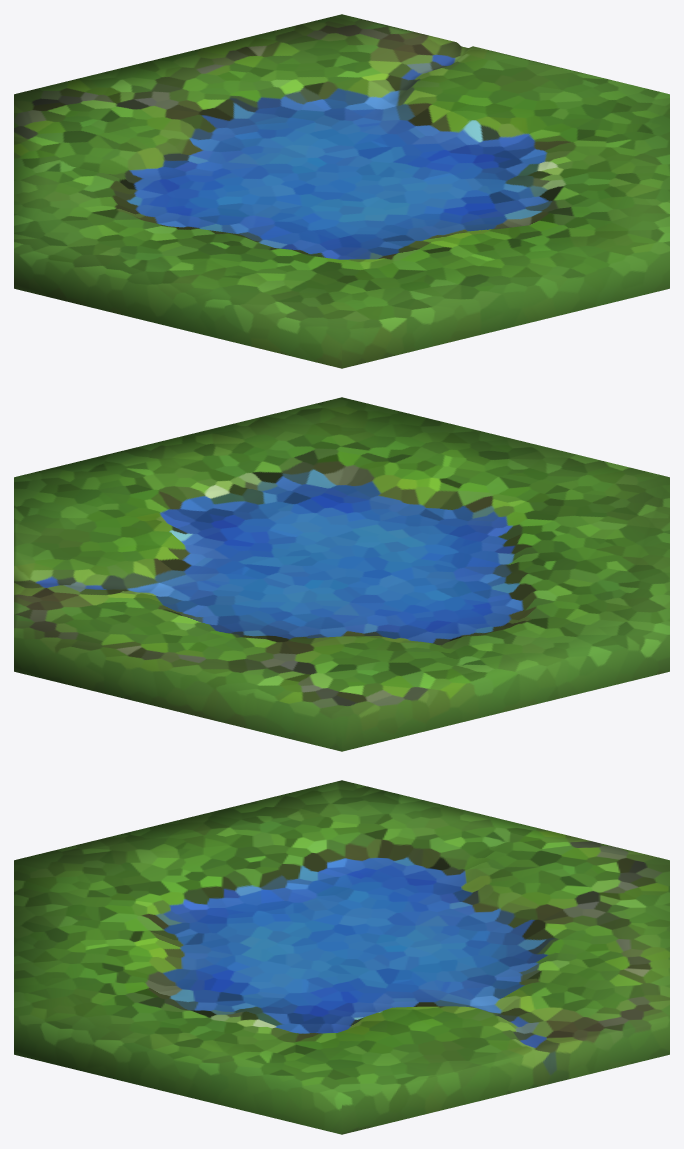
Rendered from HexTop_Lake.fbx.
The picture shows the model from 3 angles, top to bottom: view 1: azimuth 30°, elevation 25°; view 2: azimuth 150°, elevation 25°; view 3: azimuth 270°, elevation 25°; orthographic projection.
Parts seen in each view (by area): view 1: HexTop_Lake; view 2: HexTop_Lake; view 3: HexTop_Lake.
Boxes of the visible parts, <box> form: HexTop_Lake: <box>14,14,669,368</box>; HexTop_Lake: <box>14,397,669,751</box>; HexTop_Lake: <box>14,780,669,1134</box>.
Size of the model in its own units: 100 by 5.47 by 86.6.
